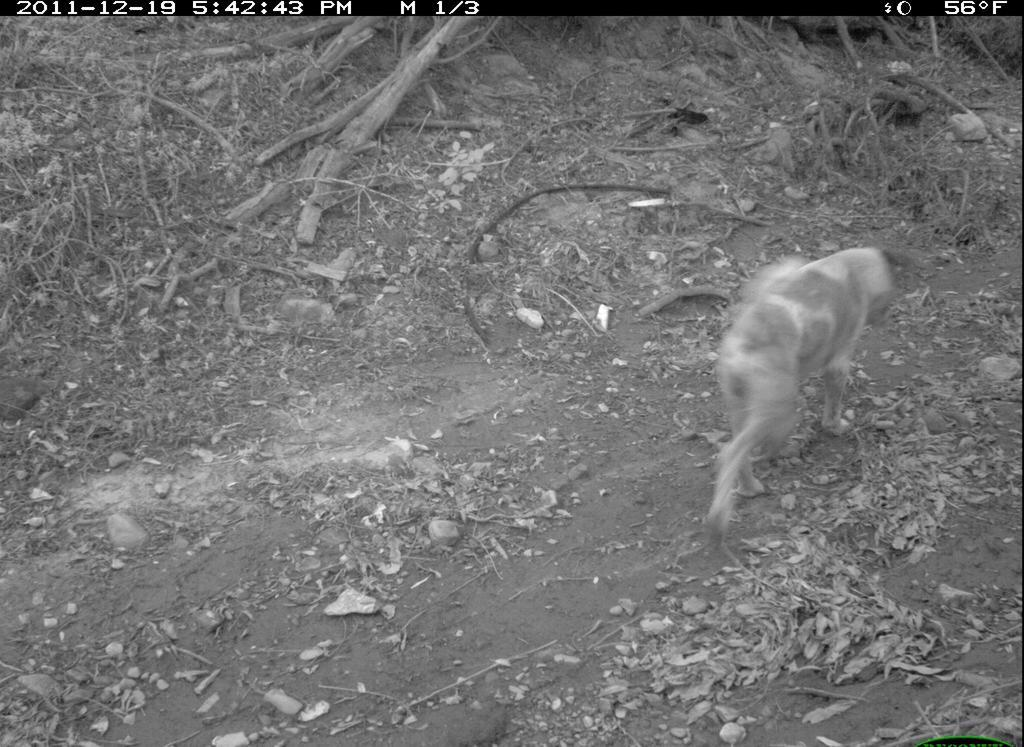dog: (665, 221, 921, 559)
